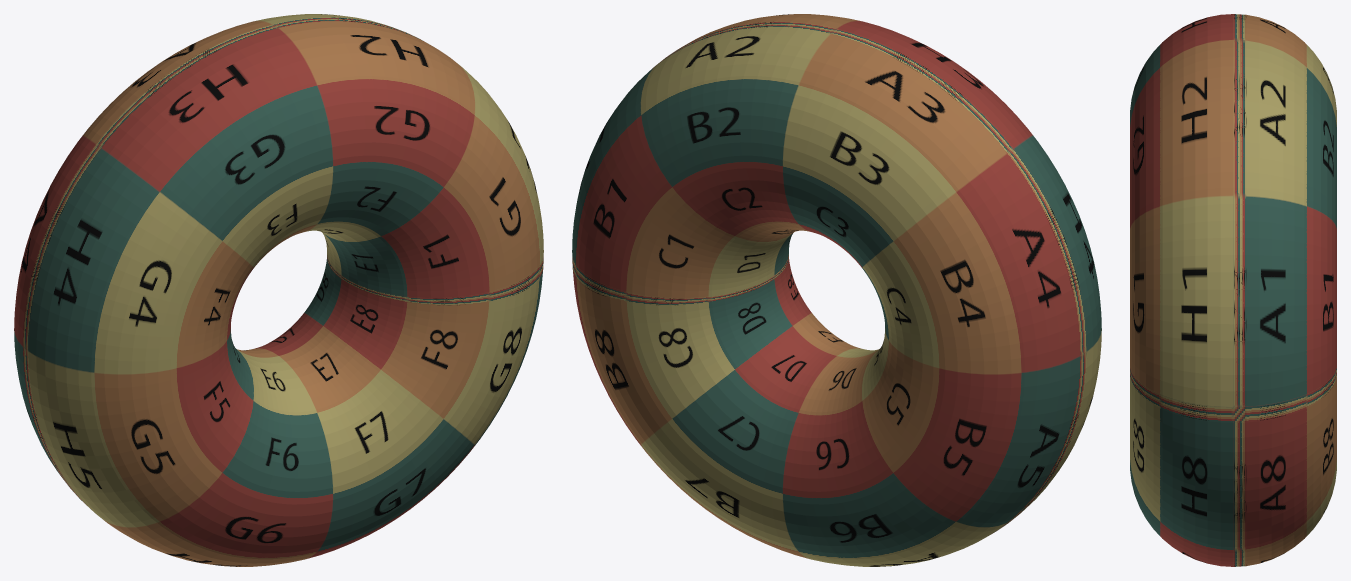
Rendered from texture_torus_R3_r9.glb.
The picture shows the model from 3 angles, left to right: view 1: azimuth 30°, elevation 25°; view 2: azimuth 150°, elevation 25°; view 3: azimuth 270°, elevation 25°; orthographic projection. The views are drawn at different scales.
Parts seen in each view (by area): view 1: world; view 2: world; view 3: world.
Boxes of the visible parts, left/top/right/bottom form: world: left=14, top=14, right=543, bottom=566; world: left=572, top=14, right=1101, bottom=566; world: left=1130, top=14, right=1336, bottom=566.
Size of the model in its own units: 26.67 by 26.67 by 9.98.
1 material, 1 textured.
